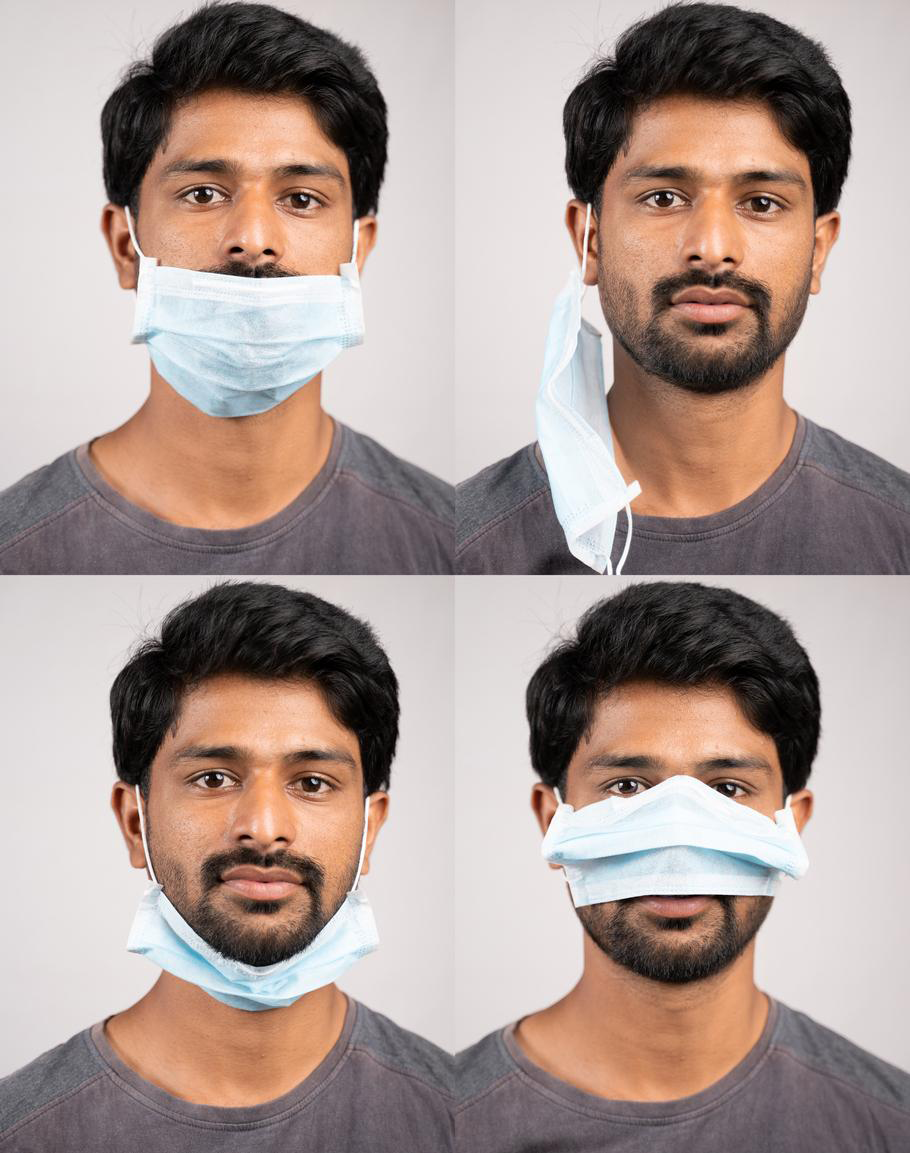mask_weared_incorrect: (122, 745, 379, 1004), (136, 148, 352, 419), (555, 744, 798, 984)
without_mask: (596, 123, 811, 398)
